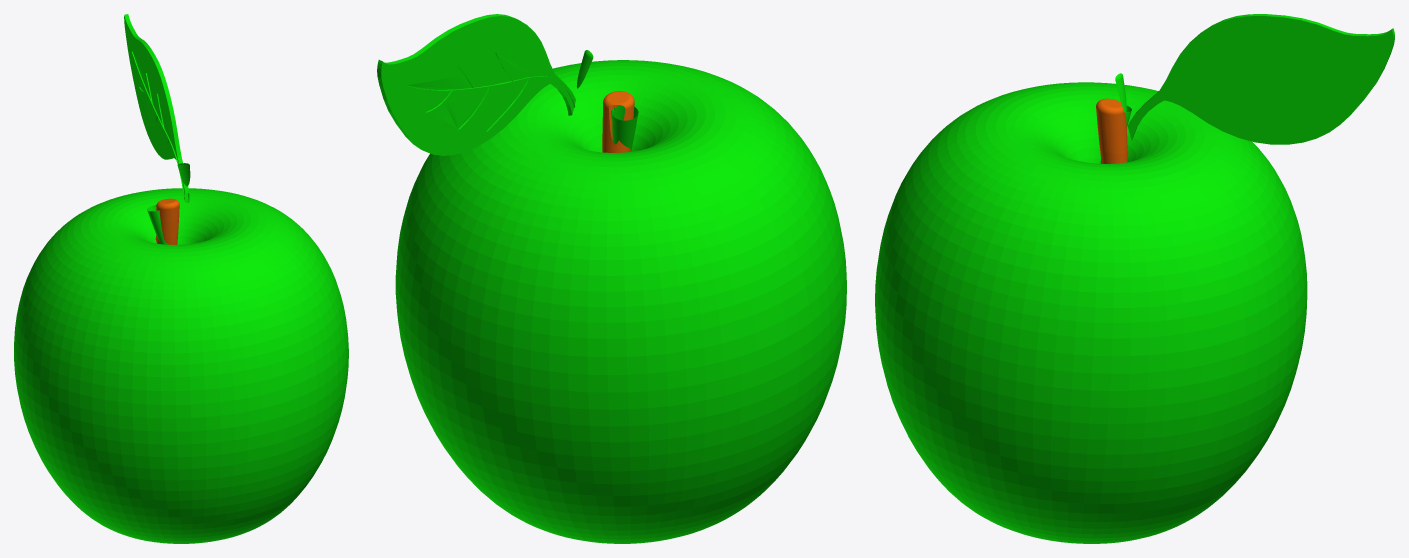
File: Apple.fbx
3 renders of one model, left to right at view 1: azimuth 30°, elevation 25°; view 2: azimuth 150°, elevation 25°; view 3: azimuth 270°, elevation 25°, orthographic. The views are drawn at different scales.
Parts seen in each view (by area): view 1: Apple, Apple.002; view 2: Apple, Apple.002; view 3: Apple, Apple.002.
Part boxes in pixels (x1,y1,x2,y2): Apple: (14, 14, 348, 543); Apple.002: (155, 198, 179, 244); Apple: (377, 14, 846, 543); Apple.002: (602, 91, 634, 152); Apple: (875, 14, 1394, 543); Apple.002: (1096, 98, 1128, 163).
Bounding box in the file's own units: 15686 × 20802 × 18871.
